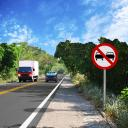NoUltrapassar: (88, 40, 122, 72)
